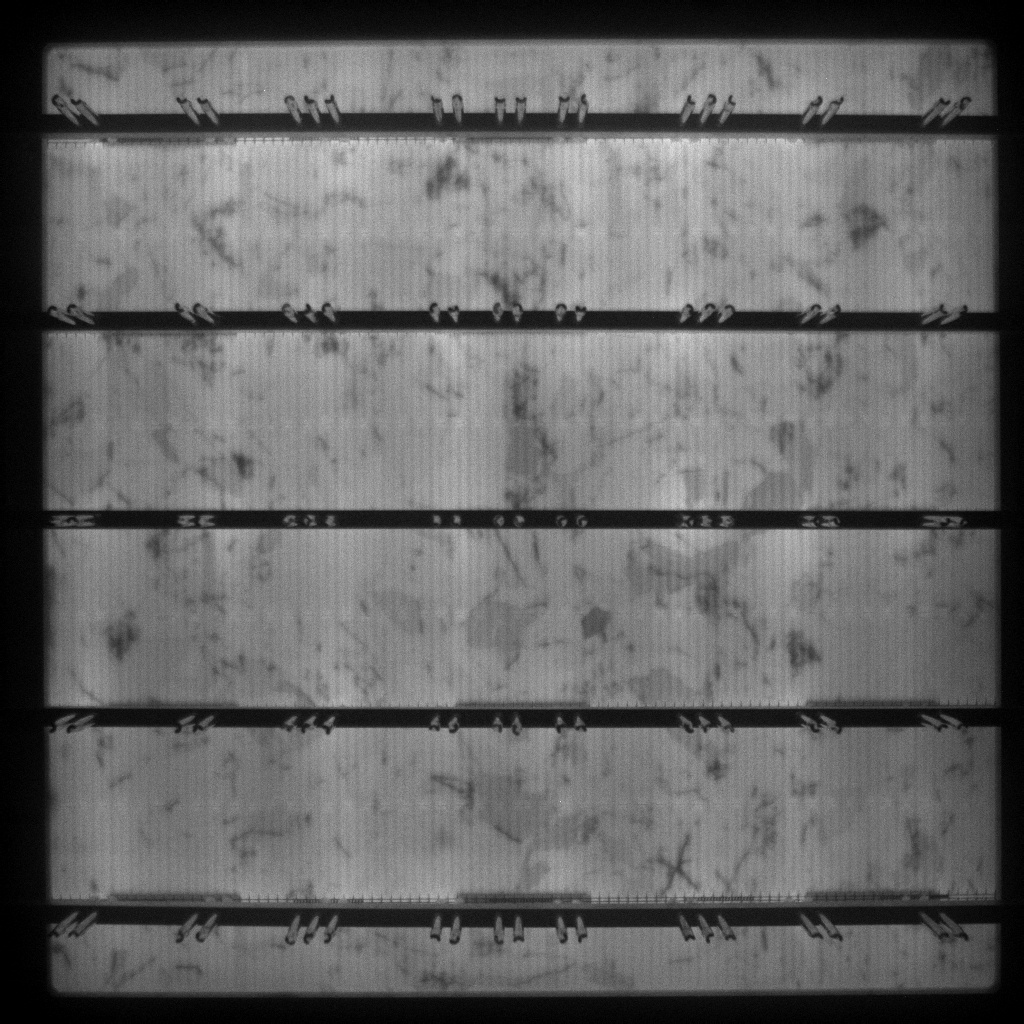crack: (655, 833, 704, 894)
